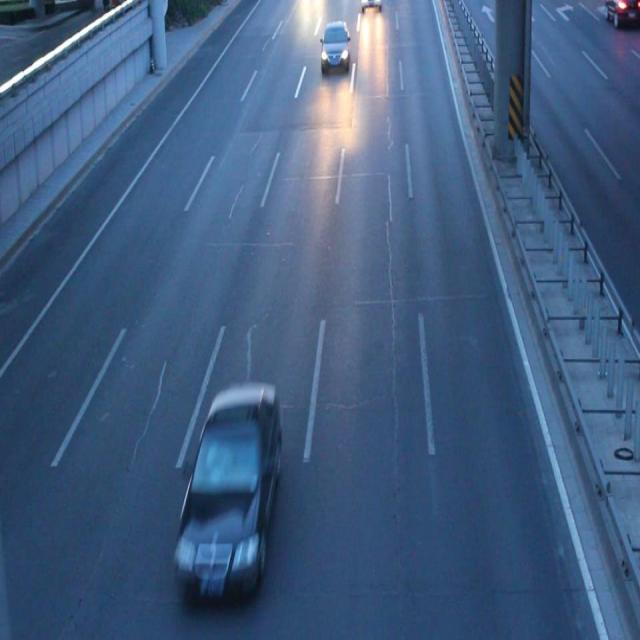car: (175, 382, 282, 597), (319, 22, 351, 74)
